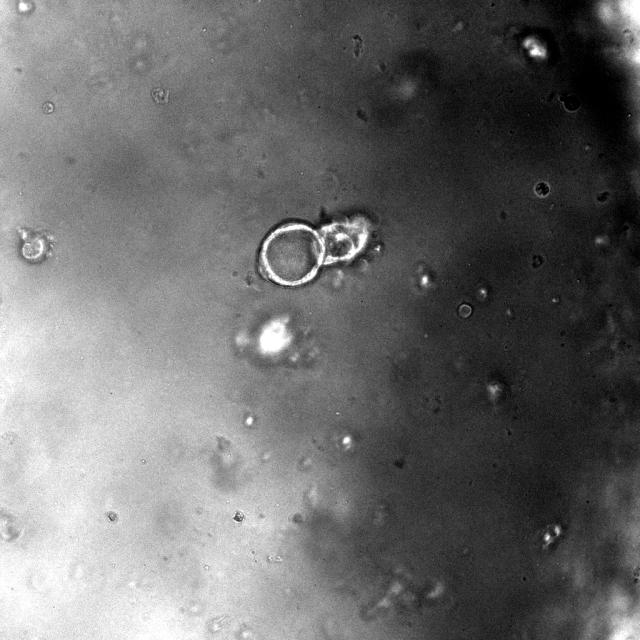organoid: (256, 214, 372, 287), (18, 228, 54, 263), (533, 181, 551, 198), (151, 86, 169, 103), (457, 302, 472, 318), (42, 101, 54, 114), (233, 510, 245, 522), (106, 511, 119, 522)
